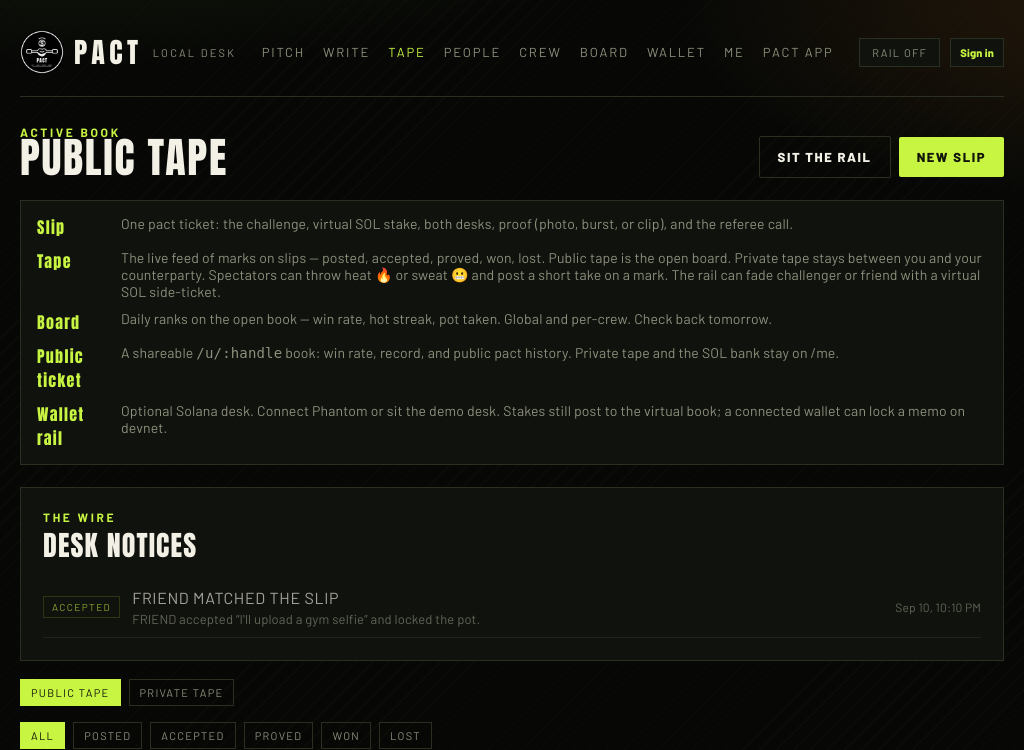
Test: spectator rail tickets › shows rail money on the public tape and lets GALE lock a ticket
Click the button "Sit the rail". click: (825, 157)
box: [759,136,891,178]
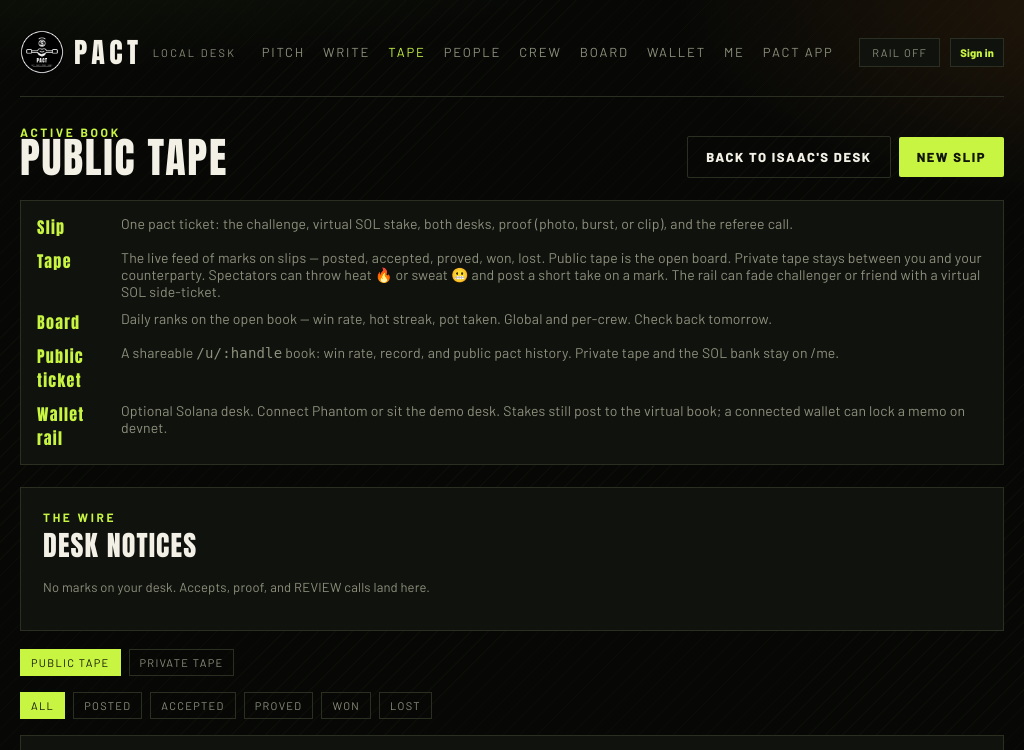
Expected: the button "Back to ISAAC's desk" is shown, [687,136,891,178]
